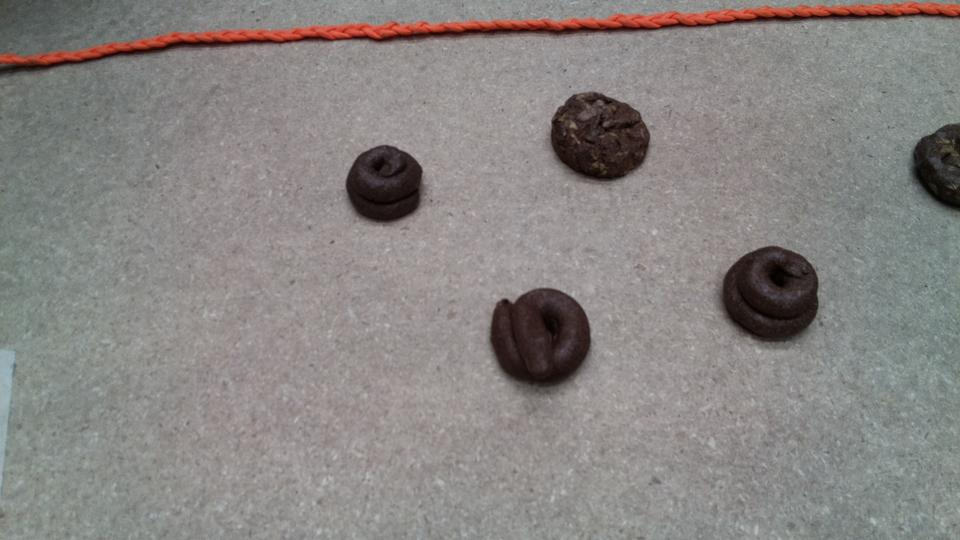poop: (488, 279, 596, 395), (719, 239, 829, 348), (545, 86, 657, 187), (342, 146, 428, 225)
rope: (1, 22, 441, 82), (337, 2, 958, 38)
